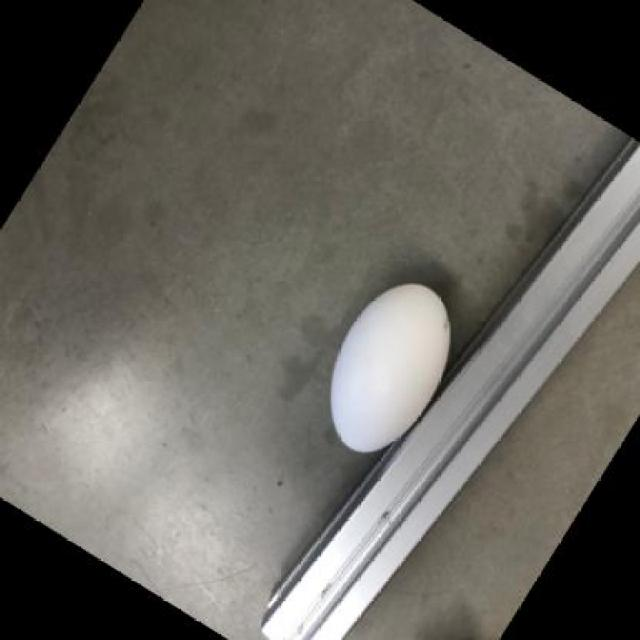egg: (326, 274, 456, 462)
